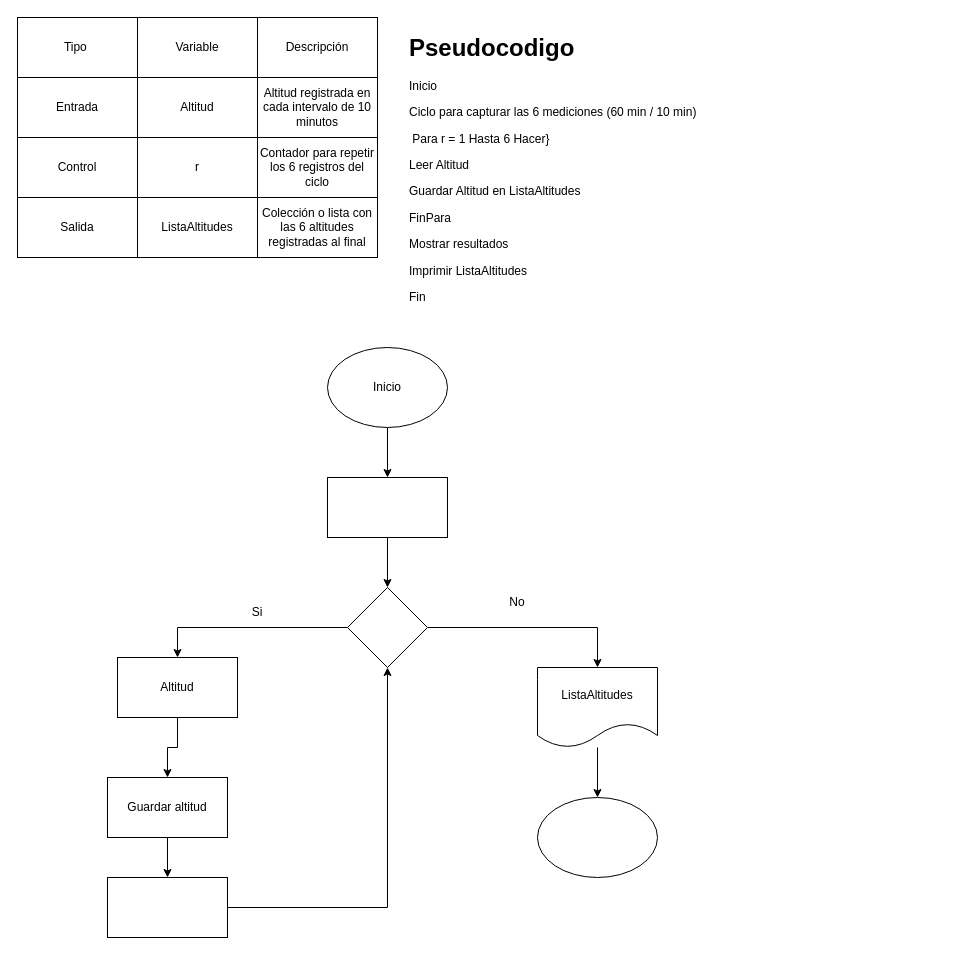
Some shapes in this 975 by 955 pixel diagram are drawn without their labels. Here are the shapes that lost their labels. From the top down, the centre of each, then its label:
the point at 387,507: i = 1
the point at 387,627: r <= 6
the point at 597,837: Fin
the point at 167,907: r = r+1
